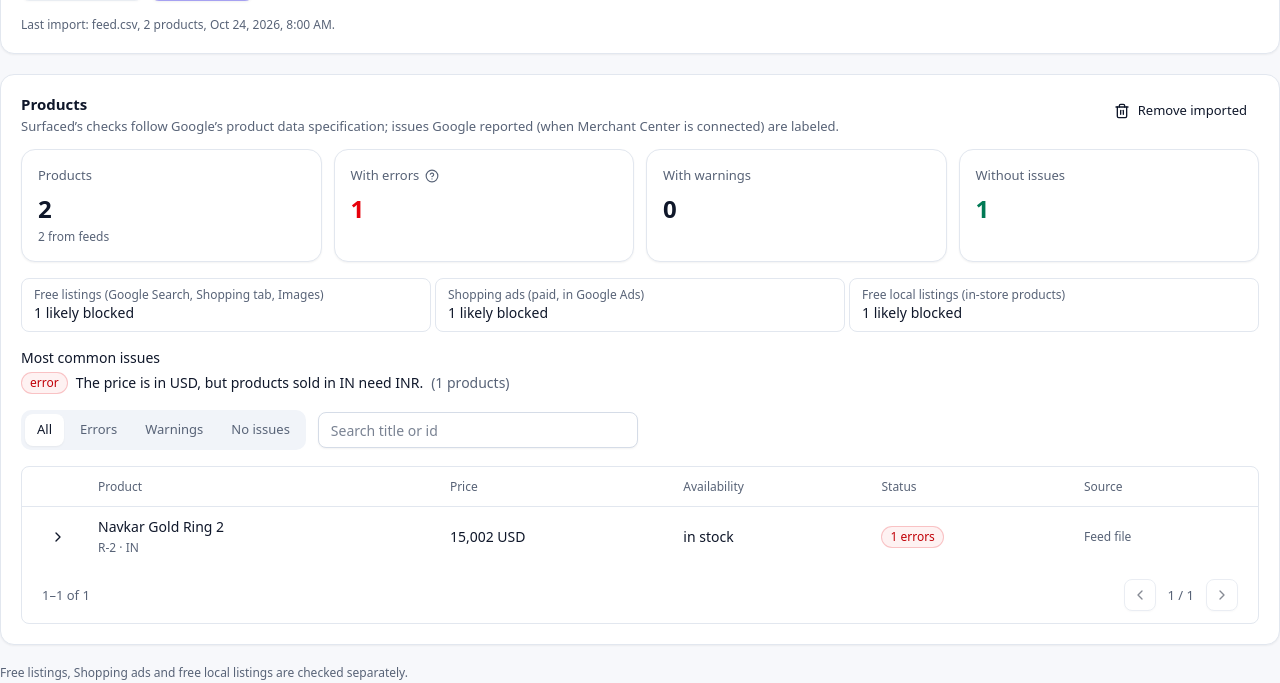
Scenario: Merchant Center page › shows the checklist and product issues with their fix and the programs they affect
(page scrolled)
Check: the text "1 likely blocked" is shown 3 times, box [34,303,134,322]; [448,303,548,322]; [862,303,962,322]
Click the button named "Issues of Navkar Gold Ring 2": point(58, 537) [42,521,74,553]
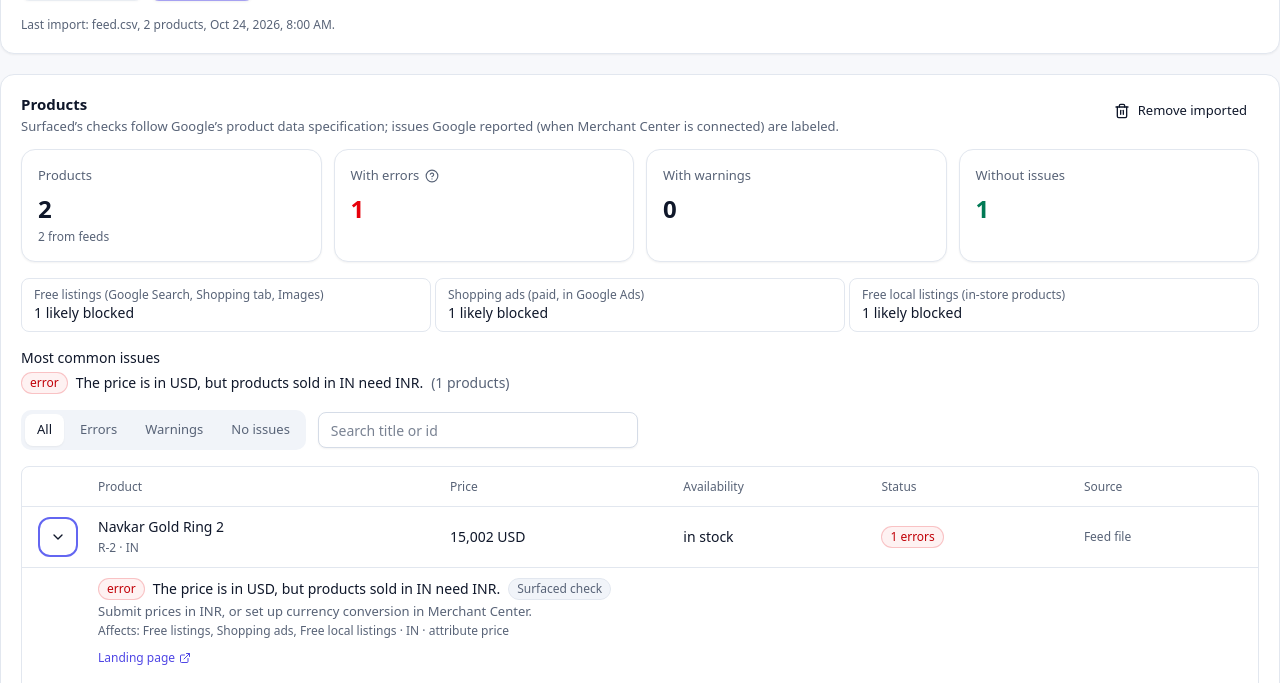
Check: the text "Submit prices in INR, or set up currency conversion in Merchant Center." is shown, box [98,602,532,620]
Check: the text "Surfaced check" is shown, box [508,578,611,600]
